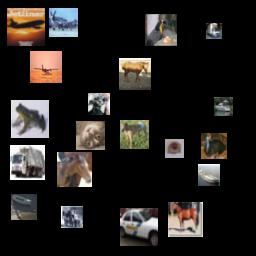airplane: (7, 8, 45, 46), (30, 51, 62, 83), (49, 8, 78, 37)
automobile: (120, 208, 158, 246)
bird: (145, 14, 177, 46), (201, 133, 227, 159)
cat: (76, 121, 105, 150)
dog: (120, 120, 149, 149), (88, 93, 110, 115), (165, 139, 184, 158)
frog: (11, 100, 49, 138)
ship: (11, 194, 37, 220), (198, 164, 220, 186), (214, 97, 233, 116)
truck: (10, 145, 45, 180), (61, 206, 83, 228), (206, 23, 222, 39)
